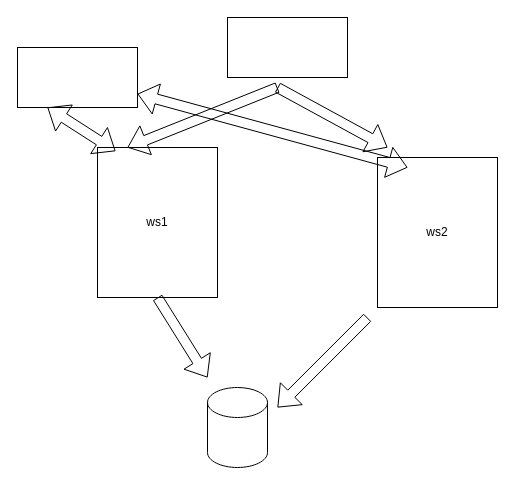
This 515x485 diagram has some shape labels left out. The centre of each missing label's shape, as x and y in pixels:
LB: point (287, 47)
memcached: point (77, 77)
